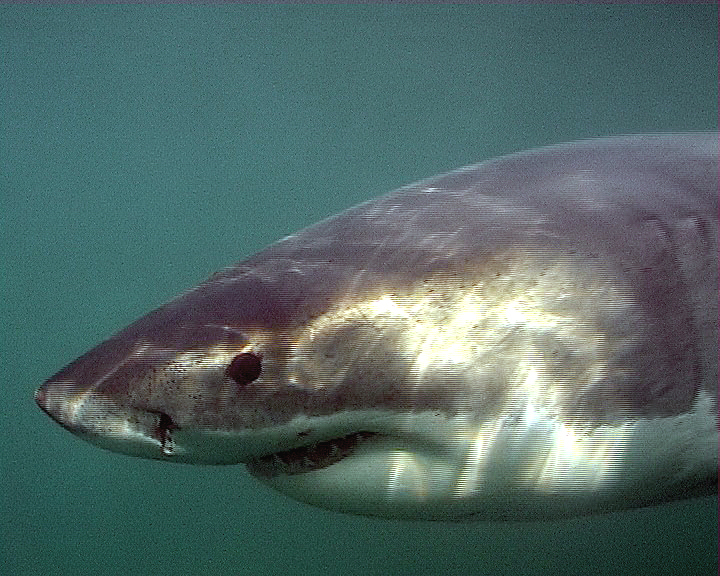Carcharodon_carcharias: (16, 119, 720, 533)
